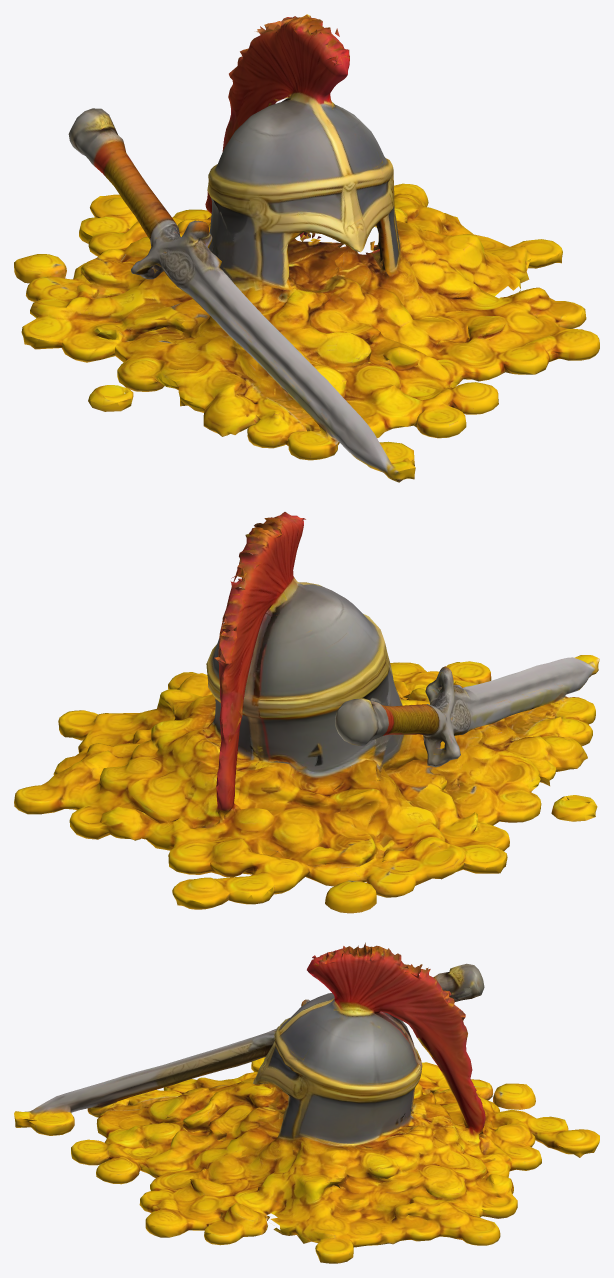
The model's file is obj_loot.glb.
The picture shows the model from 3 angles, top to bottom: view 1: azimuth 30°, elevation 25°; view 2: azimuth 150°, elevation 25°; view 3: azimuth 270°, elevation 25°; orthographic projection. The views are drawn at different scales.
Parts seen in each view (by area): view 1: Loot; view 2: Loot; view 3: Loot.
Boxes of the visible parts, box(x1,y1,x2,y2) form: Loot: box(14, 14, 599, 482); Loot: box(14, 512, 599, 913); Loot: box(14, 942, 599, 1263).
Bounding box in the file's own units: 1.63 × 0.8531 × 2.
1 material, 1 textured.
